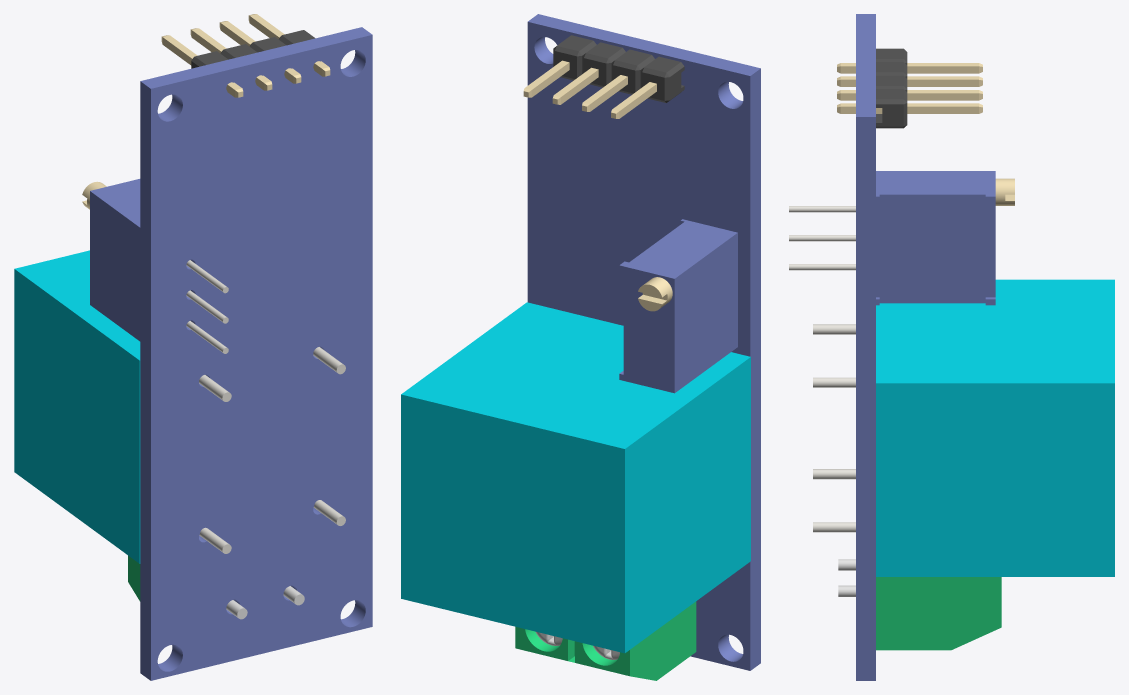
File: VTsensor(ZMPT101B) v4.glb
The picture shows the model from 3 angles, left to right: view 1: azimuth 30°, elevation 25°; view 2: azimuth 150°, elevation 25°; view 3: azimuth 270°, elevation 25°; orthographic projection. The views are drawn at different scales.
Parts seen in each view (by area): view 1: Node4, Node5, Node7, Node6, Node8; view 2: Node5, Node4, Node2, Node8, Node7; view 3: Node5, Node4, Node2, Node7, Node6, Node8.
Part boxes in pixels (x1,y1,x2,y2): Node4: [90, 27, 372, 680]; Node5: [14, 250, 140, 563]; Node7: [82, 14, 330, 209]; Node6: [186, 260, 345, 553]; Node8: [191, 30, 315, 68]; Node5: [401, 302, 750, 653]; Node4: [527, 14, 760, 670]; Node2: [515, 601, 696, 680]; Node8: [553, 35, 684, 102]; Node7: [523, 60, 672, 311]; Node5: [876, 279, 1114, 576]; Node4: [856, 14, 995, 680]; Node2: [876, 577, 1001, 650]; Node7: [837, 63, 1014, 205]; Node6: [789, 206, 855, 532]; Node8: [876, 48, 907, 128].
Size of the model in its own units: 19.5 by 49.5 by 25.91.
